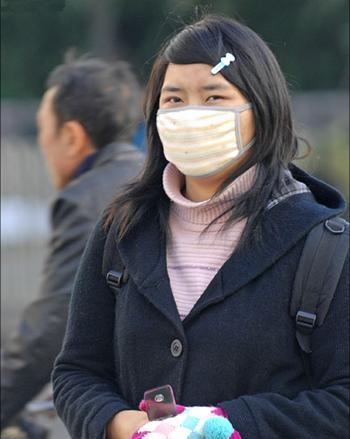face: (37, 96, 77, 184)
face_mask: (155, 63, 240, 178)
